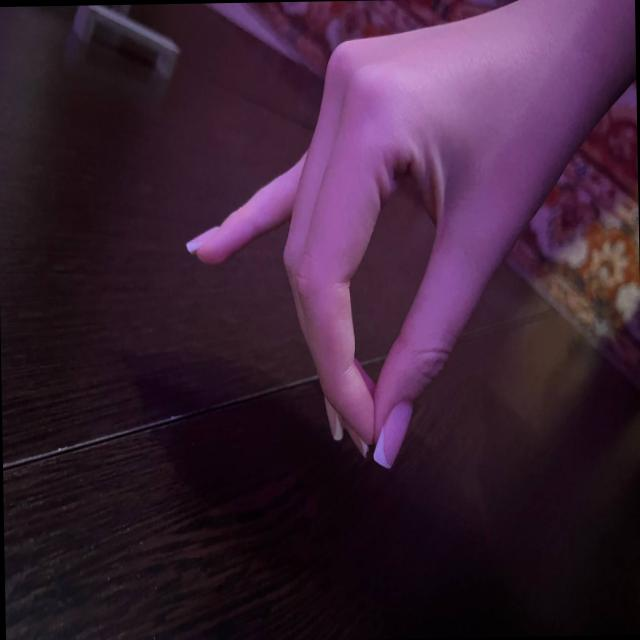iu: (174, 0, 572, 474)
